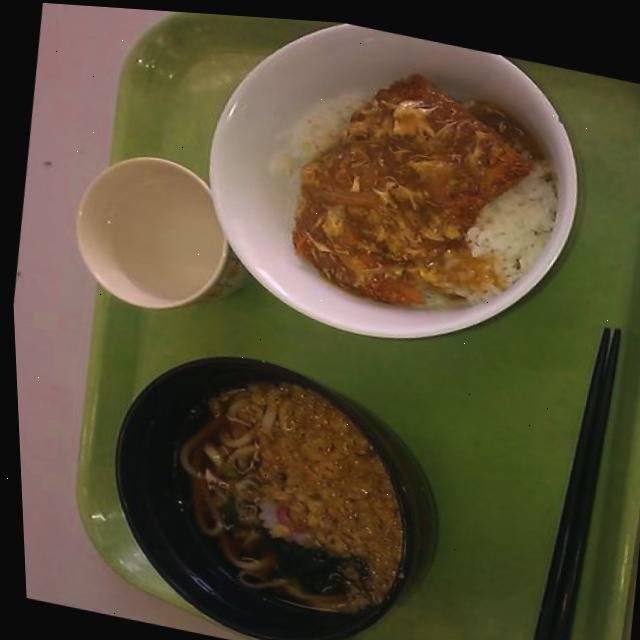面条主食: (73, 318, 459, 640)
